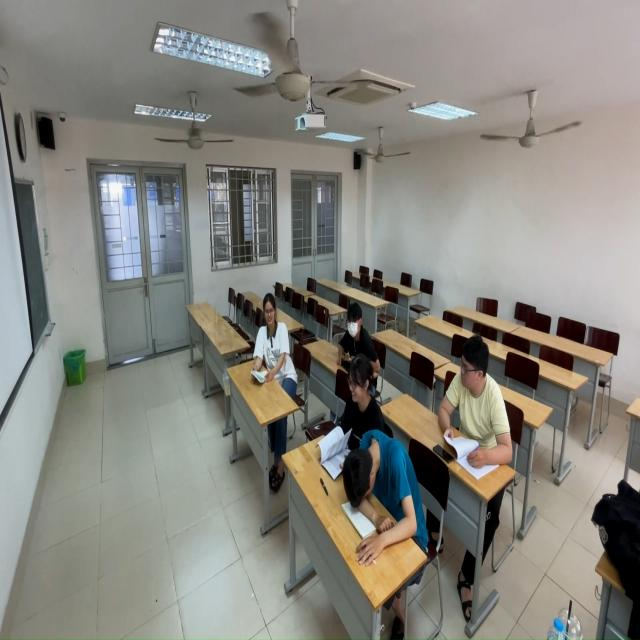read: (439, 326, 509, 472), (319, 354, 384, 483), (249, 291, 299, 398), (340, 289, 378, 379)
sleep: (341, 428, 428, 557)
